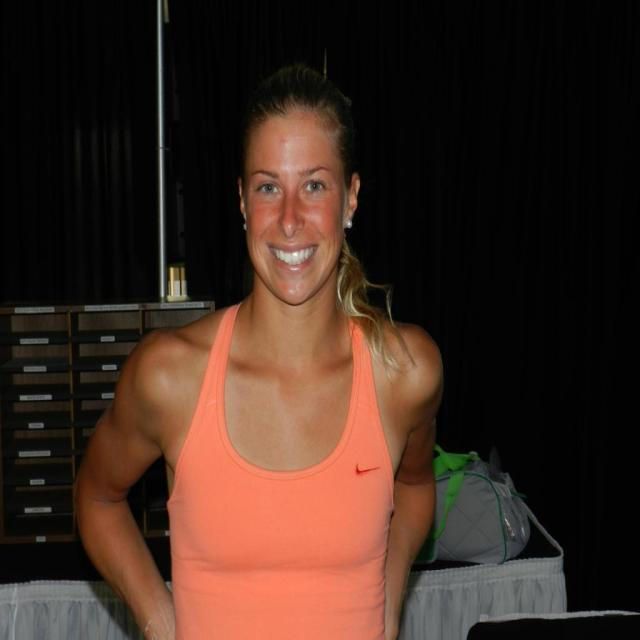Face: (253, 108, 347, 310)
